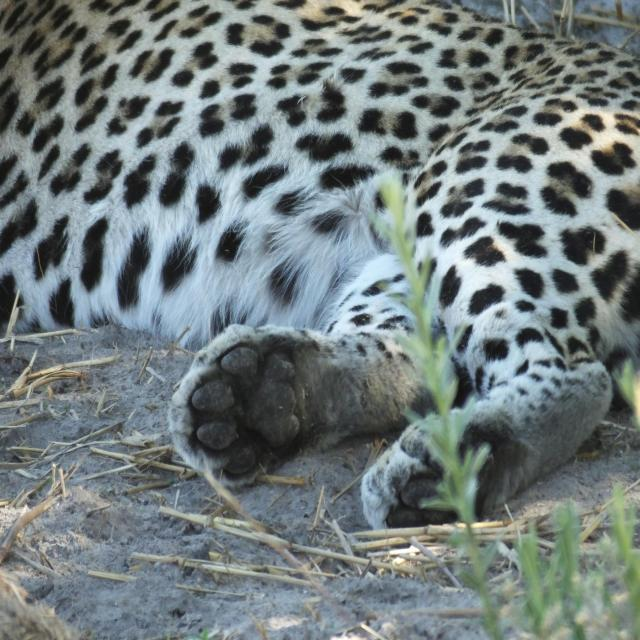Leopard: (0, 0, 640, 539)
